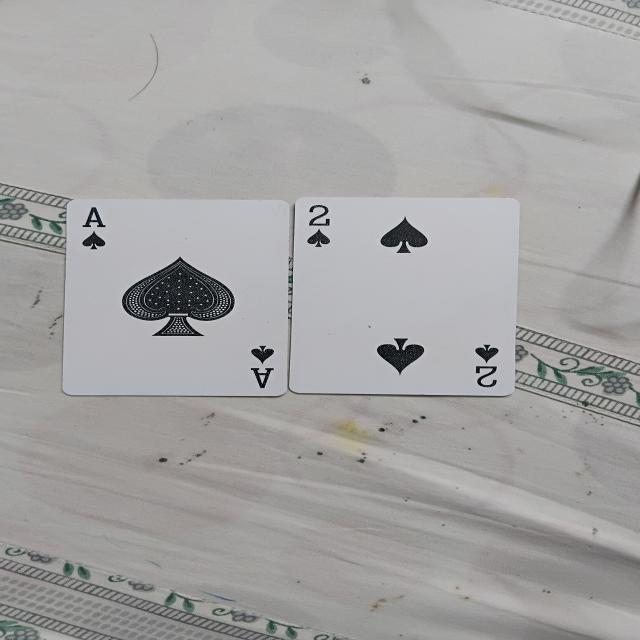2S: (297, 196, 518, 397)
AS: (66, 198, 289, 397)
